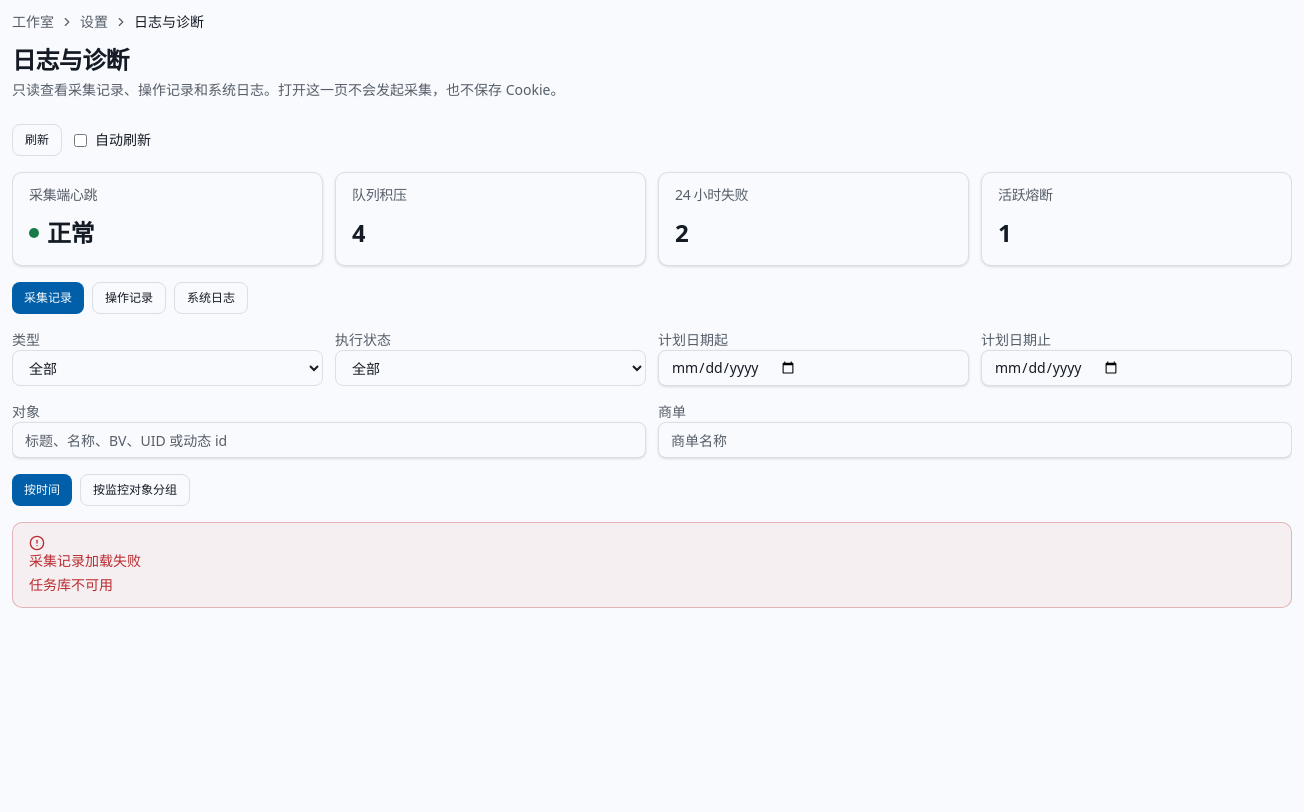
Test: ops page › keeps the health summary when collection records fail, then loads logs on their own
Check: the text "任务库不可用" is shown, box [29, 575, 113, 595]
Check: the text "正常" is shown, box [47, 217, 94, 249]
Click the tab "系统日志".
click(211, 298)  # box [174, 282, 248, 314]
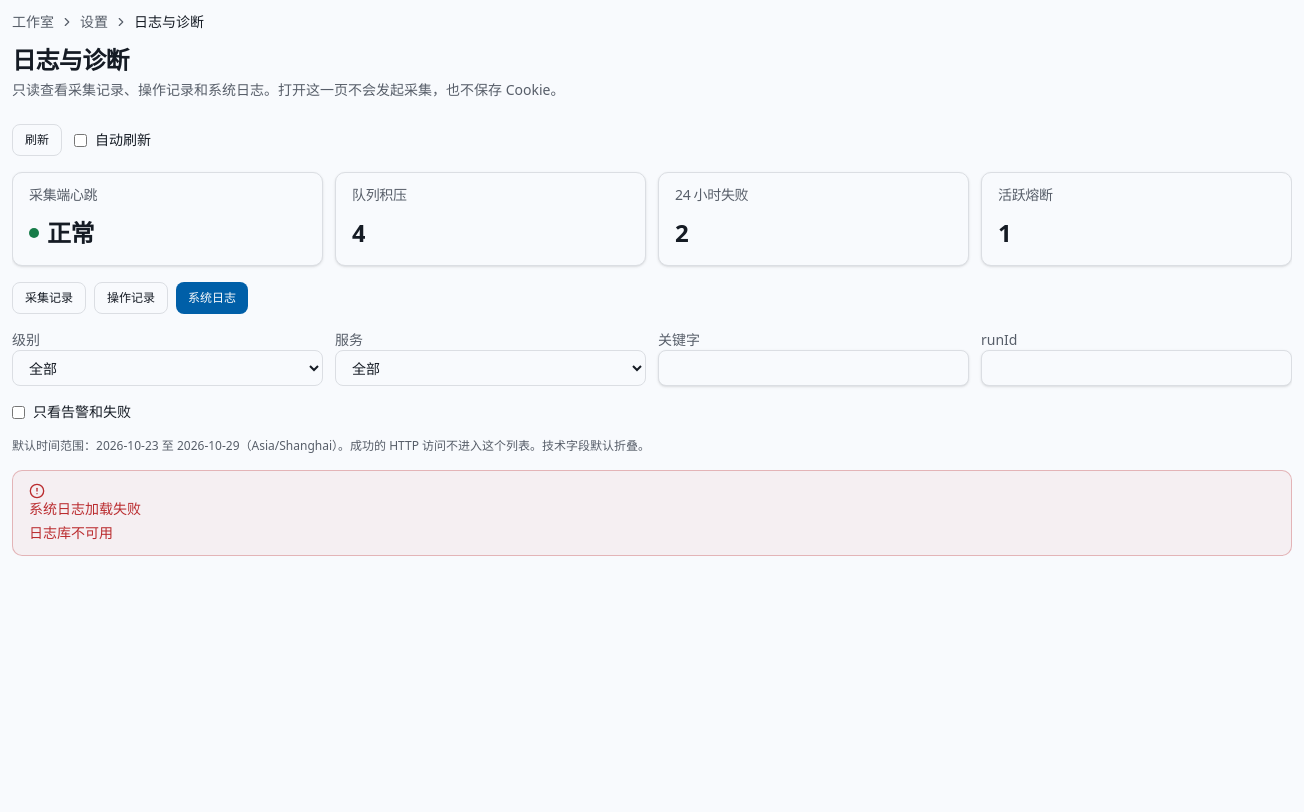
Check: the text "正常" is shown, box [47, 217, 94, 249]
Check: the text "日志库不可用" is shown, box [29, 523, 113, 543]
Click the tab "操作记录".
click(131, 298)  # box [94, 282, 168, 314]
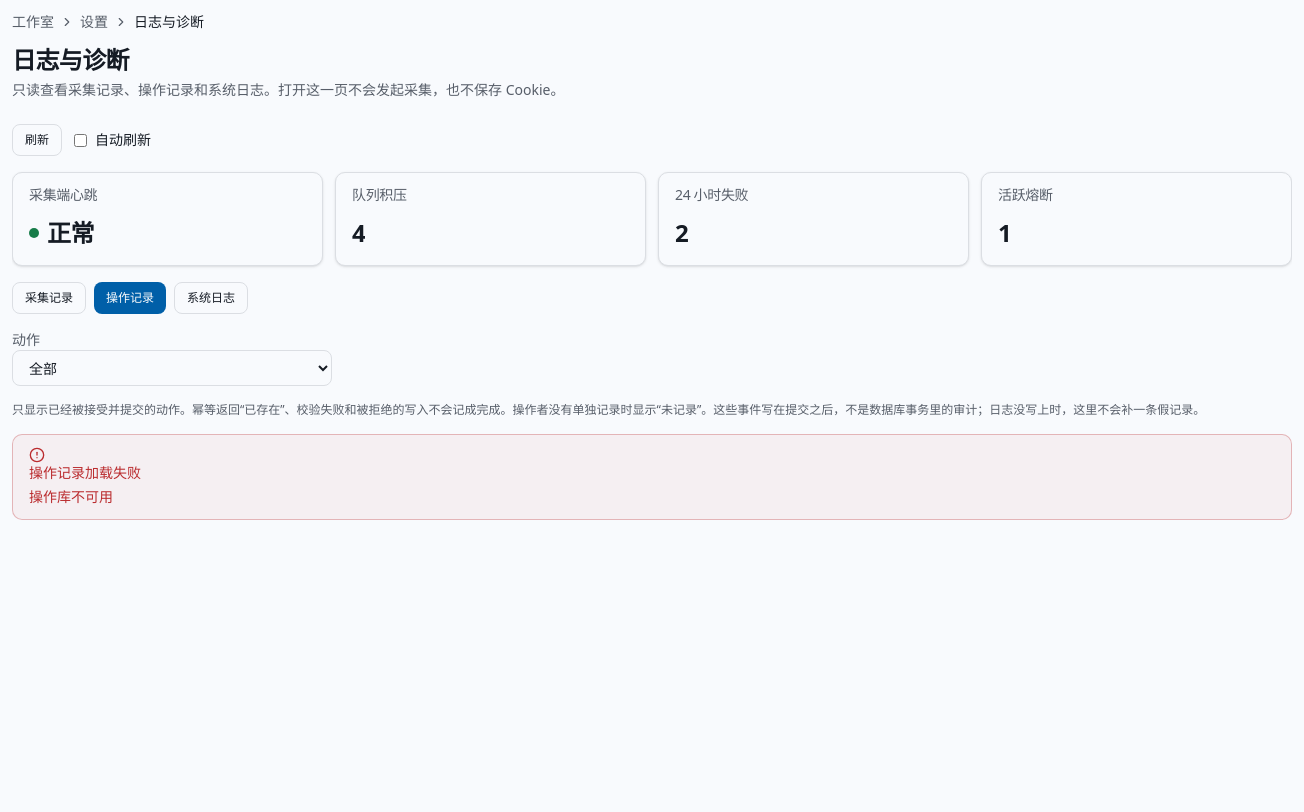
Check: the text "操作库不可用" is shown, box [29, 487, 113, 507]
Click the tab "采集记录".
click(49, 298)  # box [12, 282, 86, 314]
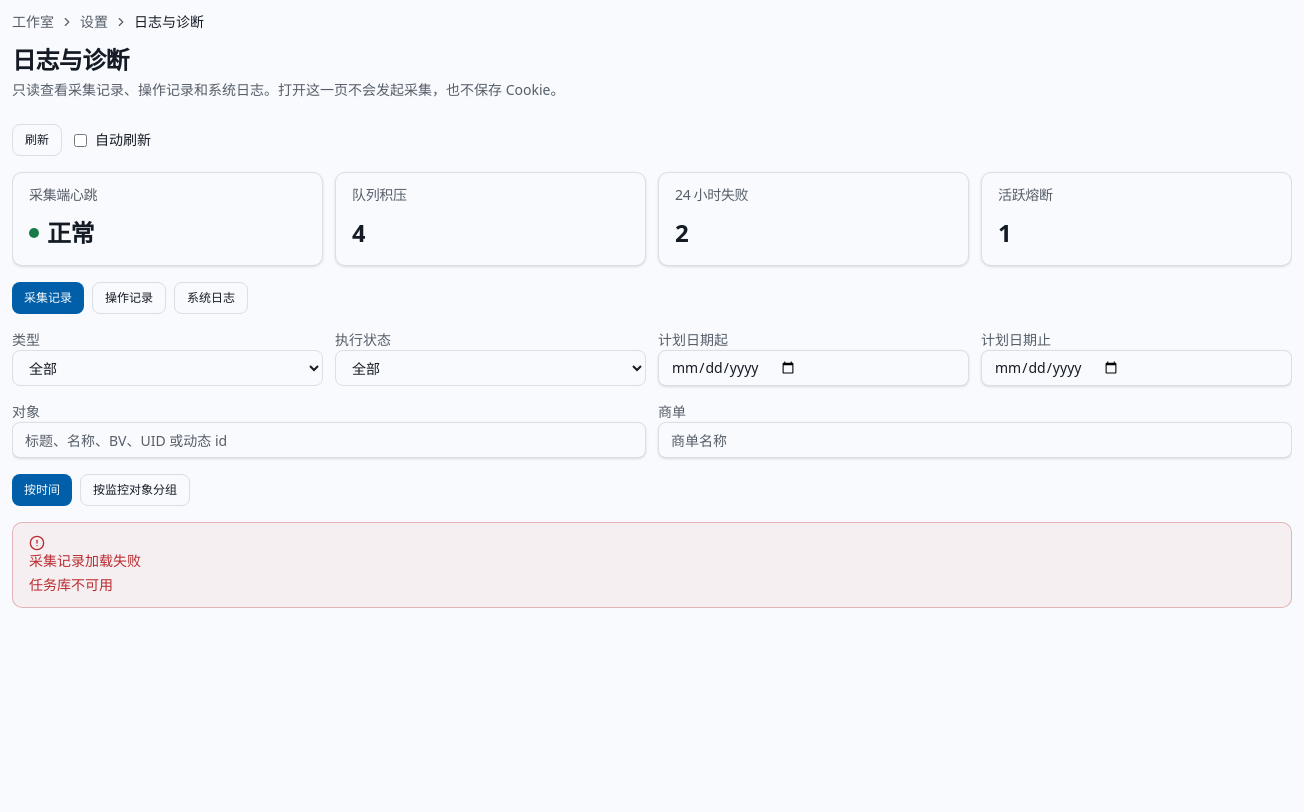
Check: the text "任务库不可用" is shown, box [29, 575, 113, 595]
